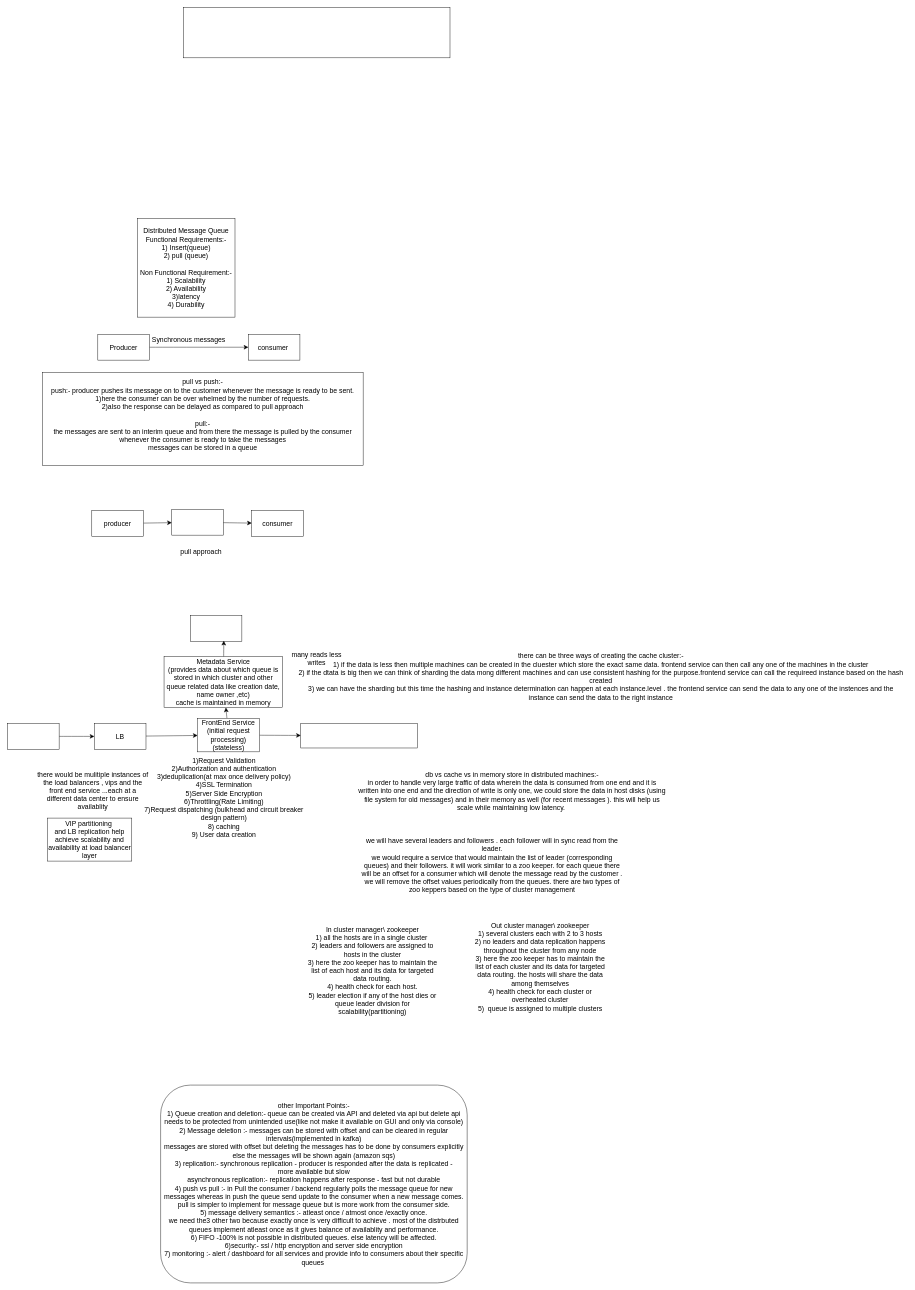
Image size: 915x1290. Some labels were removed from this diagram. The centre of each missing label's shape, as x and y in pixels:
Backend Service (this is where the data will be stored): point 359,735
database: point 216,628
queue: point 197,522
Source - system Design Interview / exponent youtube channel: point 316,32
VIP (Virtual IP (DNS spins this IP)): point 33,736
